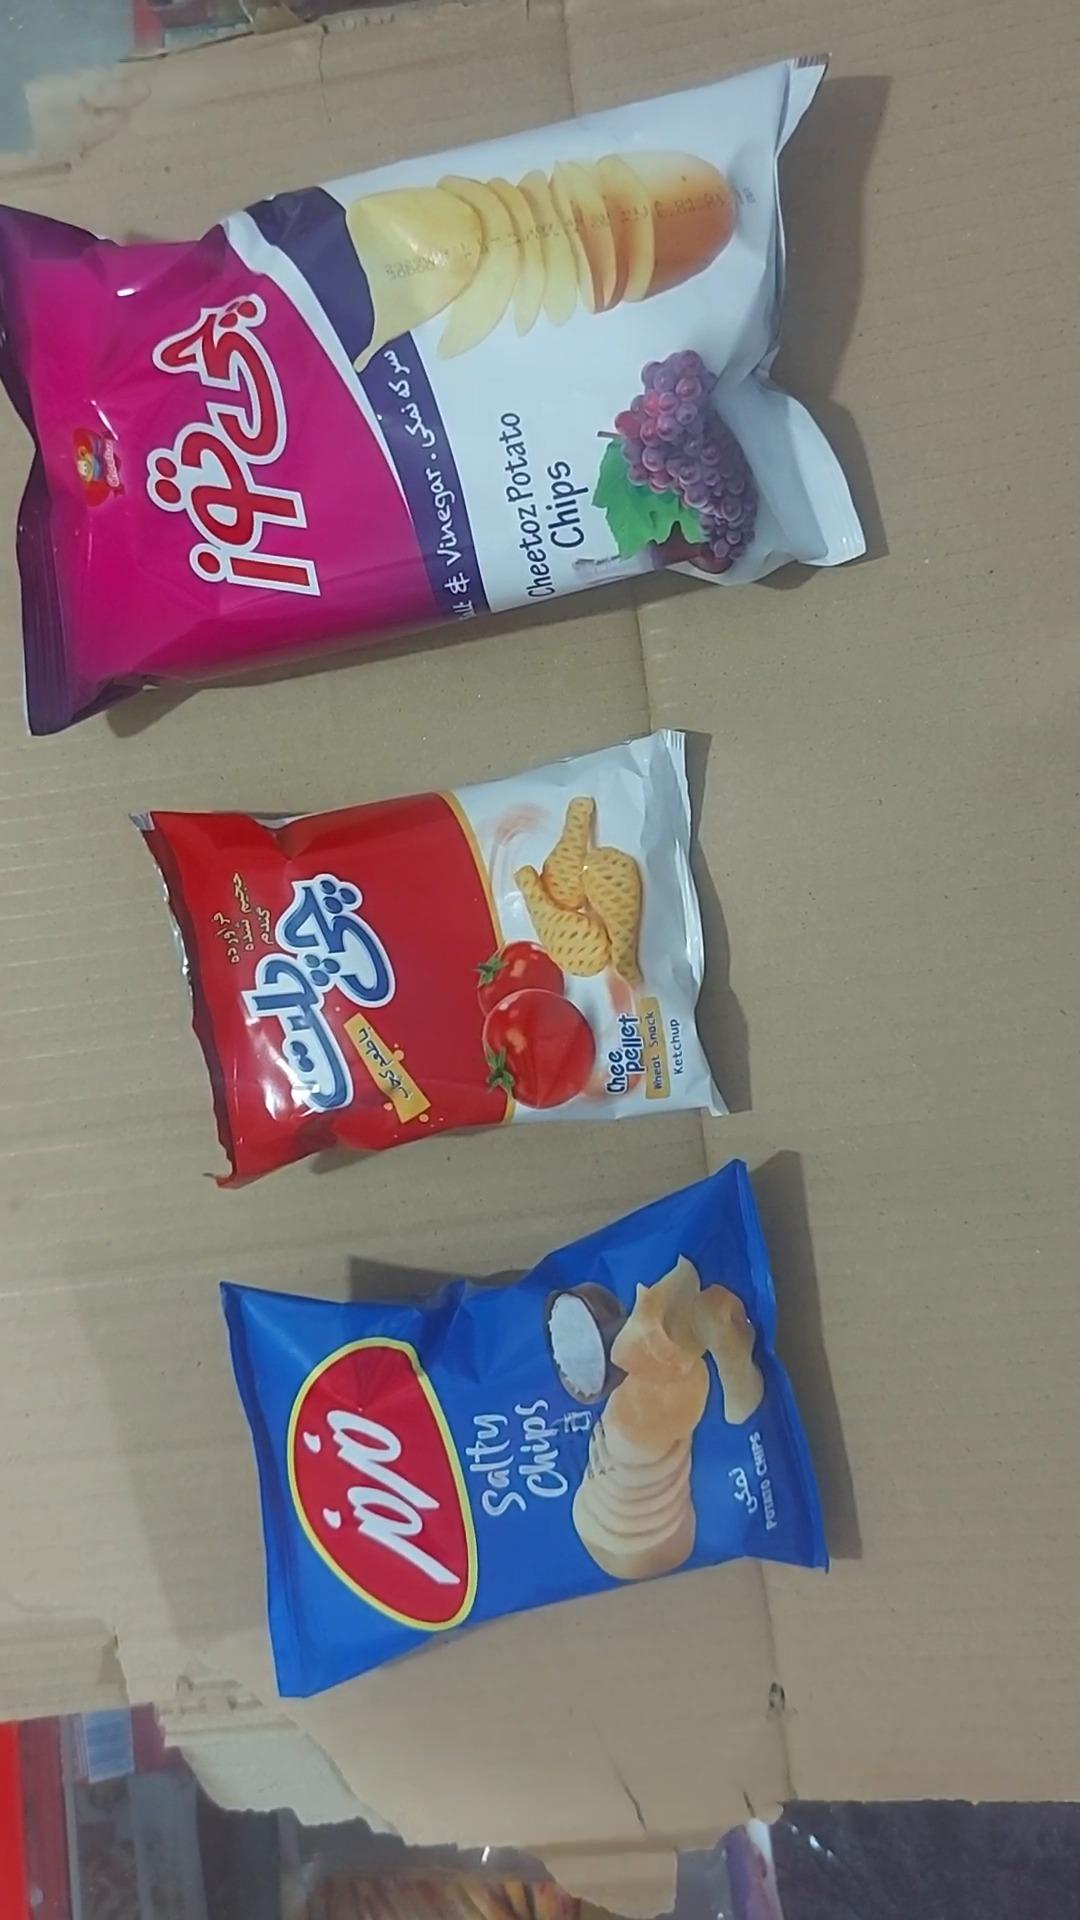Chee pellet ketchup: (129, 731, 729, 1191)
Cheetoz vinegar chips: (0, 54, 869, 740)
Maz Maz salty chips: (222, 1160, 829, 1702)
